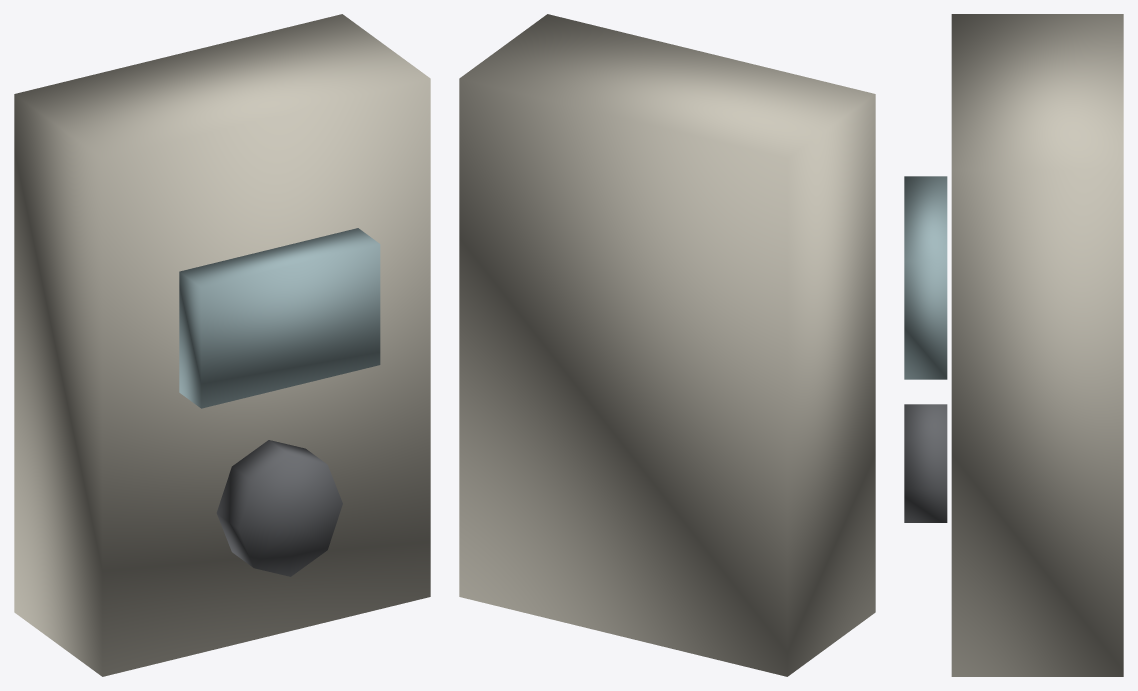
Rendered from wall_thermostat__compact.glb.
The picture shows the model from 3 angles, left to right: view 1: azimuth 30°, elevation 25°; view 2: azimuth 150°, elevation 25°; view 3: azimuth 270°, elevation 25°; orthographic projection. The views are drawn at different scales.
Visible parts, largest first — view 1: world; view 2: world; view 3: world.
Boxes of the visible parts, box(x1,y1,x2,y2) form: world: box(14, 14, 430, 676); world: box(459, 14, 875, 676); world: box(904, 14, 1123, 676).
Size of the model in its own units: 0.1848 by 0.279 by 0.1097.
